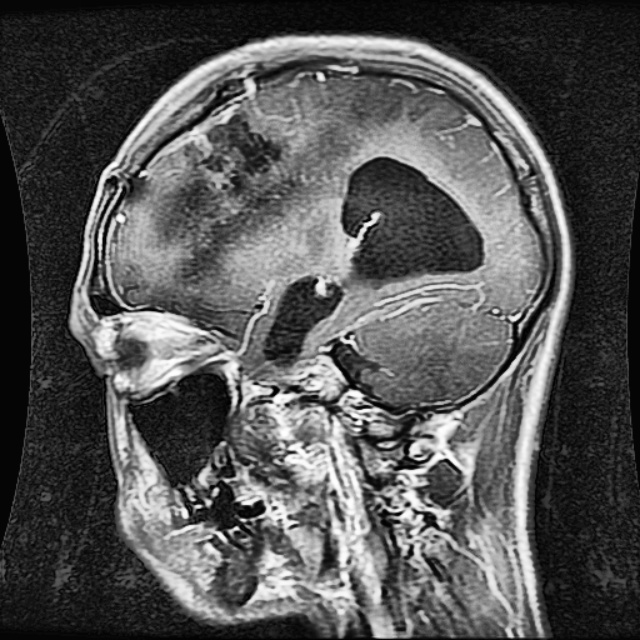Meningioma: (268, 159, 483, 365)
